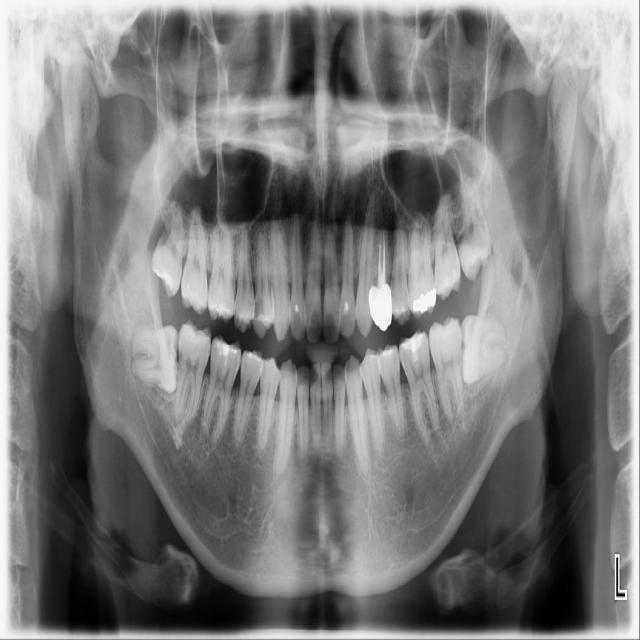Caries: (160, 214, 171, 246)
Filling: (368, 280, 393, 333), (402, 332, 424, 362), (413, 288, 437, 314), (217, 341, 237, 365), (344, 302, 348, 315), (295, 305, 299, 313)
Root Canal Treatment: (380, 234, 387, 277), (376, 233, 380, 278)
impacted tooth: (452, 179, 491, 275), (461, 317, 509, 384), (128, 326, 176, 392)
